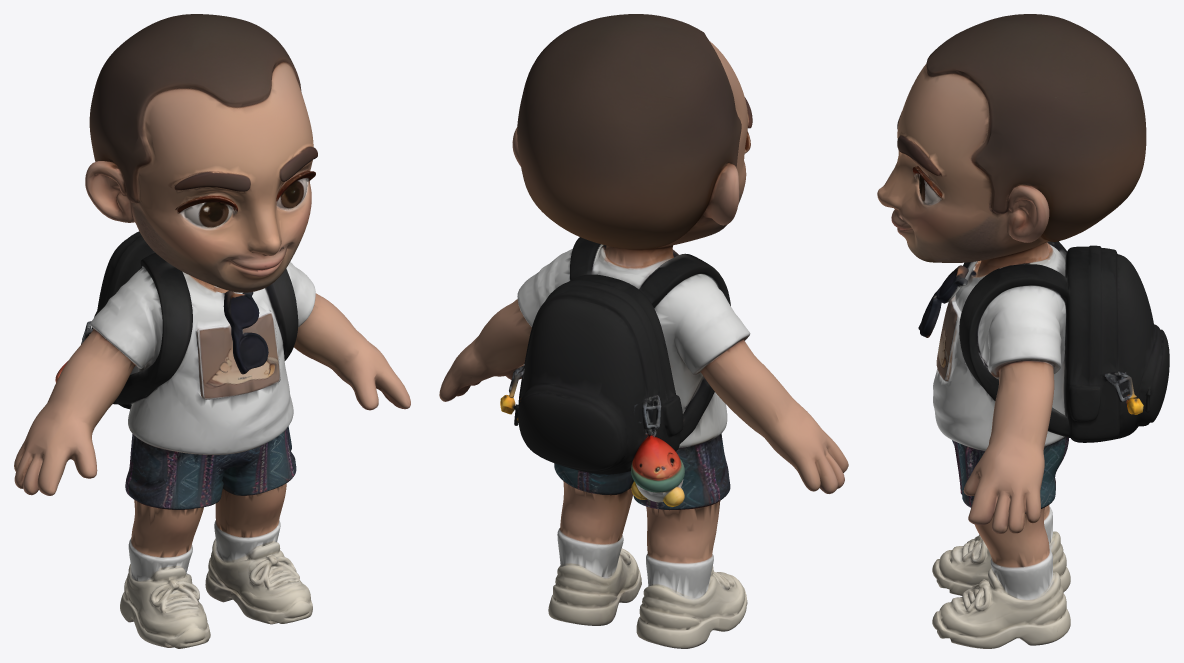
File: thilo-01.glb
3 renders of one model, left to right at view 1: azimuth 30°, elevation 25°; view 2: azimuth 150°, elevation 25°; view 3: azimuth 270°, elevation 25°, orthographic. The views are drawn at different scales.
Visible parts, largest first — view 1: node_0; view 2: node_0; view 3: node_0.
Boxes of the visible parts, x1,y1,x2,y2 form: node_0: [14, 14, 410, 648]; node_0: [439, 14, 848, 648]; node_0: [877, 14, 1169, 648].
Size of the model in its own units: 0.792 by 1.15 by 0.5193.
Materials: 1 (1 with a texture image).
